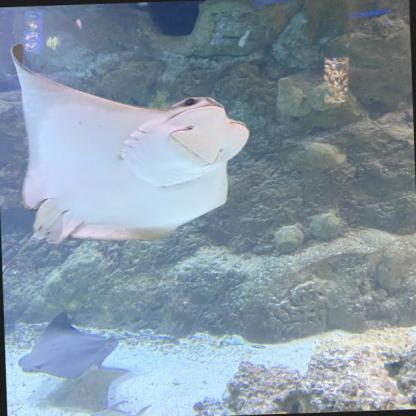fish: (78, 398, 152, 415)
stingray: (10, 36, 253, 246), (16, 306, 122, 381)
